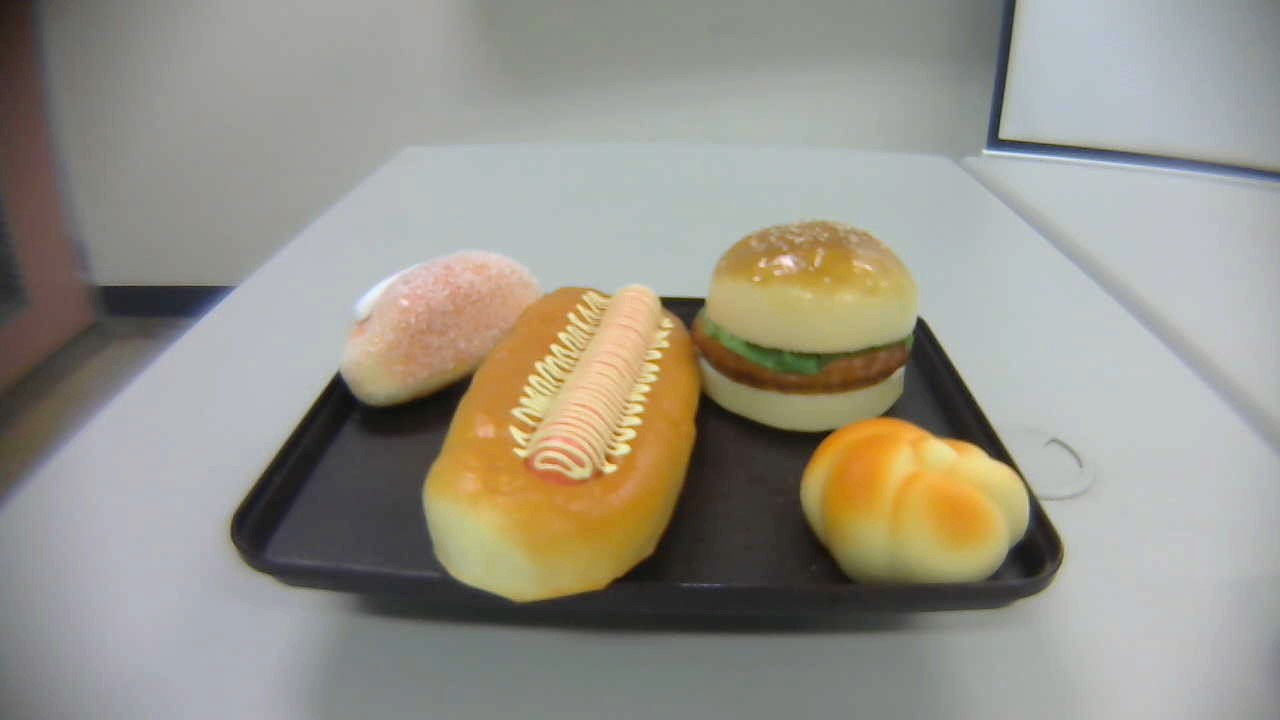coconut: (339, 251, 547, 405)
hamburger: (689, 220, 918, 435)
hot dog: (423, 284, 700, 600)
twist bread: (798, 418, 1032, 592)
